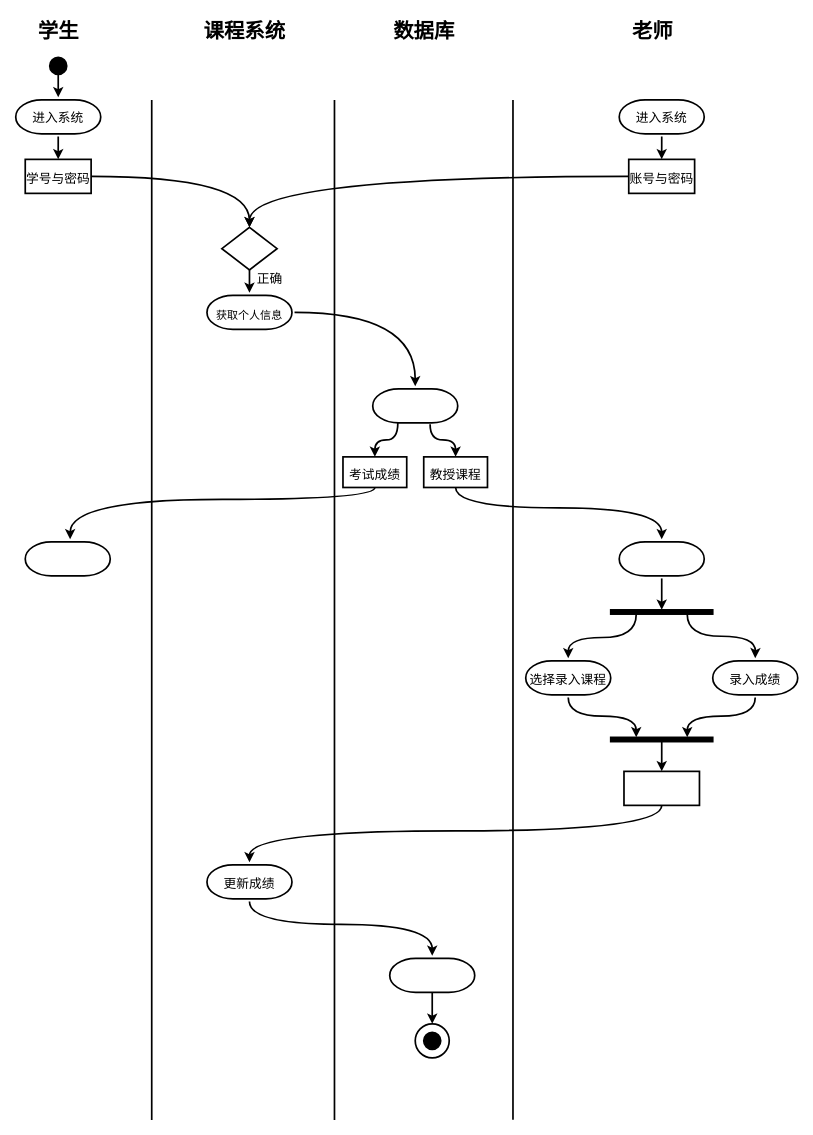
Some shapes in this 813 by 1135 pixel diagram are drawn without their labels. Here are the shapes that lost their labels. From the top down, the centre of each, then its label:
the point at 414,405: 检索信息
the point at 67,558: 显示成绩
the point at 661,558: 显示课程
the point at 661,788: 成绩表
the point at 431,975: 更新
